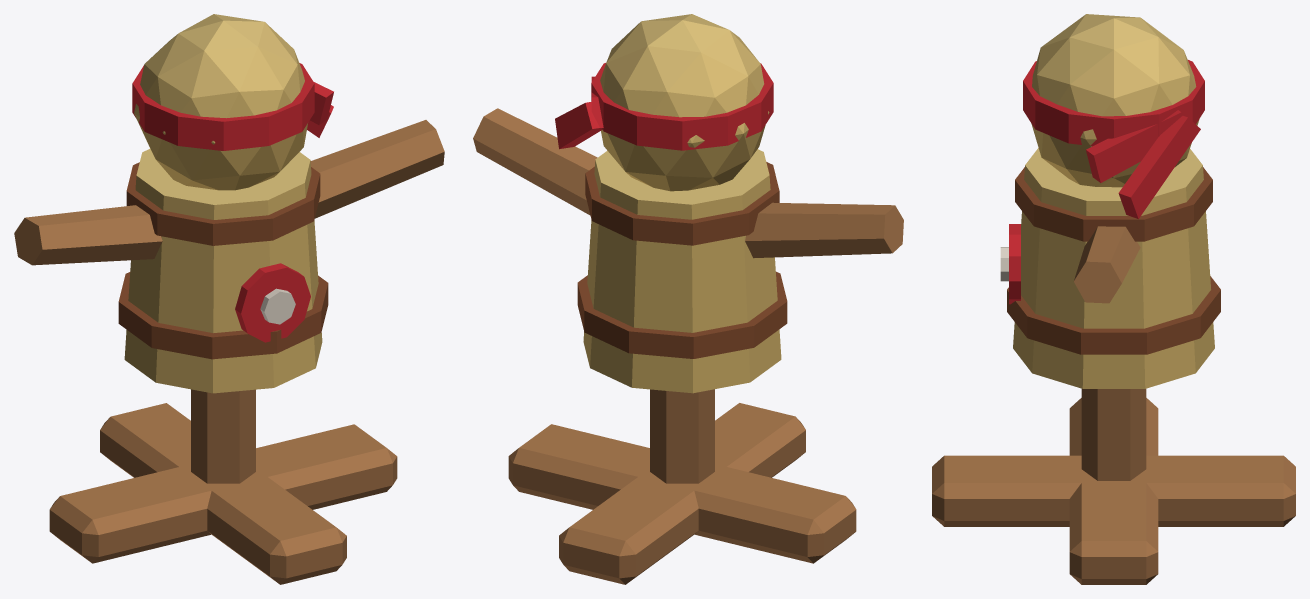
Rendered from habitat_prop_ninja.fbx.
The picture shows the model from 3 angles, left to right: view 1: azimuth 30°, elevation 25°; view 2: azimuth 150°, elevation 25°; view 3: azimuth 270°, elevation 25°; orthographic projection.
Visible parts, largest first — view 1: habitat_prop_ninja; view 2: habitat_prop_ninja; view 3: habitat_prop_ninja.
Part boxes in pixels (box(x1,y1,x2,y2)): habitat_prop_ninja: box(14, 14, 444, 584); habitat_prop_ninja: box(473, 14, 903, 584); habitat_prop_ninja: box(932, 14, 1295, 584).
Bounding box in the file's own units: 1.19 × 1.35 × 0.9.
